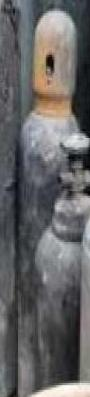cylinder: (1, 1, 90, 397)
